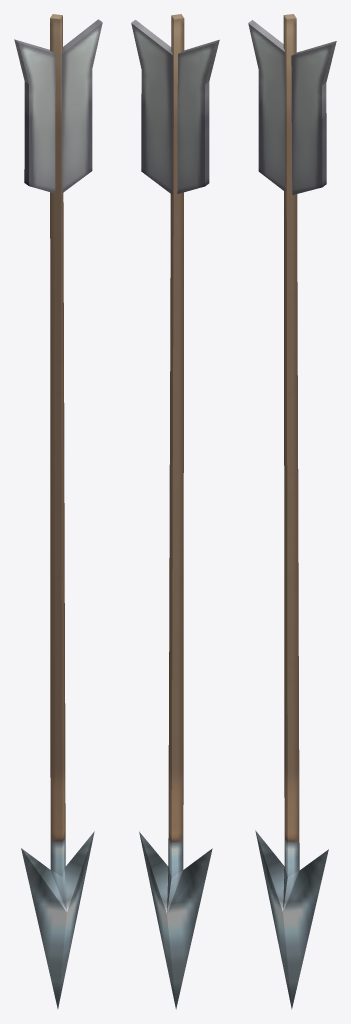
Rendered from 20020_Arrow.FBX.
The picture shows the model from 3 angles, left to right: view 1: azimuth 30°, elevation 25°; view 2: azimuth 150°, elevation 25°; view 3: azimuth 330°, elevation 25°; orthographic projection.
Parts seen in each view (by area): view 1: 20020_Arrow; view 2: 20020_Arrow; view 3: 20020_Arrow.
Boxes of the visible parts, x1,y1,x2,y2 form: 20020_Arrow: (14,14,102,1009); 20020_Arrow: (131,14,219,1009); 20020_Arrow: (248,14,336,1009).
Size of the model in its own units: 0.1116 by 1.26 by 0.041.
